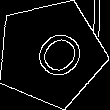O_SW: (17, 20, 84, 87)
